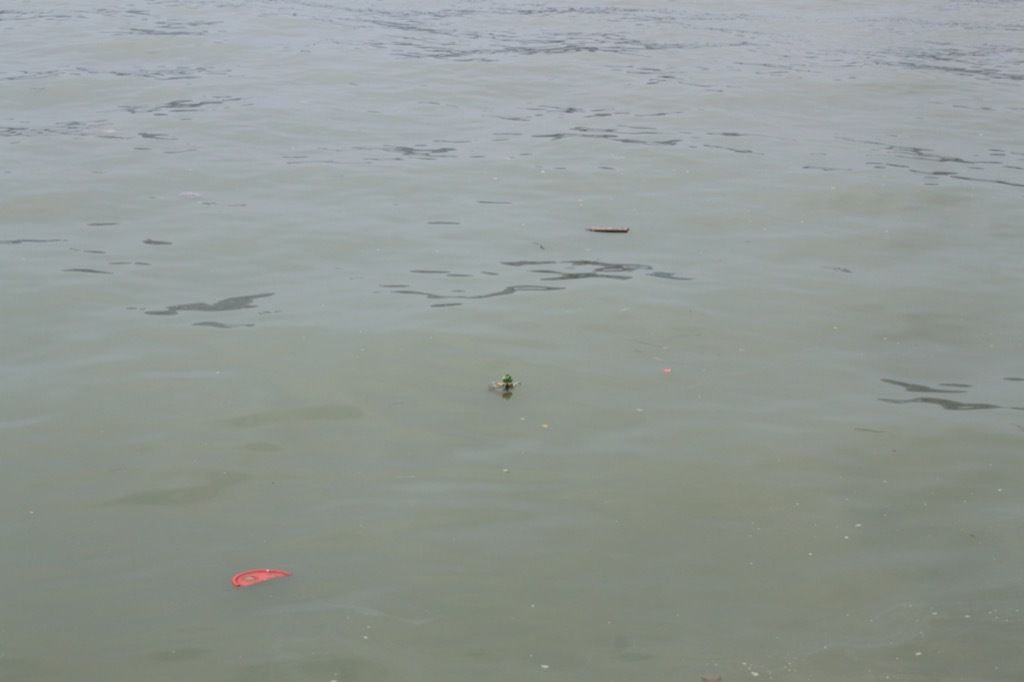organic: (483, 368, 530, 407), (581, 218, 637, 239)
plastic: (218, 544, 308, 609), (650, 352, 688, 389)
